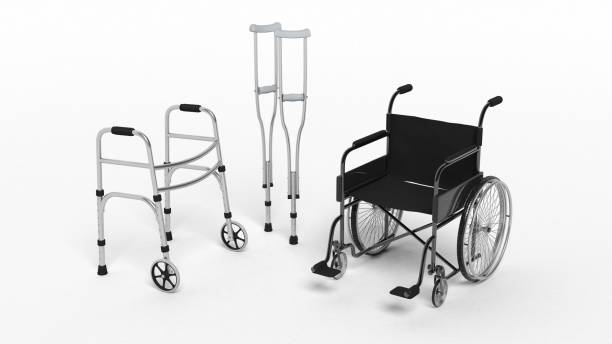wheel_chair: (308, 82, 517, 311)
